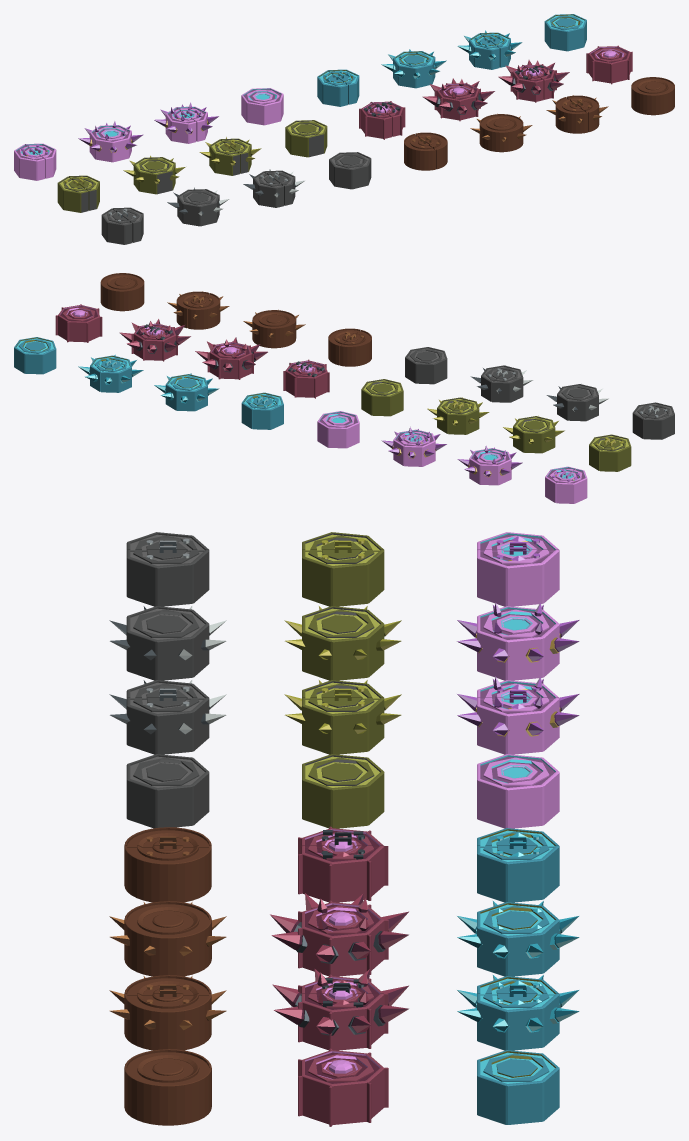
File: construcoes.fbx
The picture shows the model from 3 angles, top to bottom: view 1: azimuth 30°, elevation 25°; view 2: azimuth 150°, elevation 25°; view 3: azimuth 270°, elevation 25°; orthographic projection. The views are drawn at different scales.
Visible parts, largest first — view 1: reidite_spike_body, wood_spike_body, amethyst_spike_body, diamond_spike_body, gold_spike_body, wood_wall_body, stone_spike_body, reidite_wall_body, stone_wall_body, gold_wall_body, diamond_wall_body, amethyst_wall_body (+24 smaller); view 2: reidite_spike_body, wood_spike_body, amethyst_spike_body, diamond_spike_body, wood_wall_body, reidite_wall_body, gold_spike_body, stone_spike_body, amethyst_wall_body, diamond_wall_body, stone_wall_body, gold_wall_body (+24 smaller); view 3: reidite_spike_body, wood_spike_body, amethyst_spike_body, diamond_spike_body, wood_wall_body, gold_spike_body, stone_spike_body, reidite_wall_body, stone_wall_body, diamond_wall_body, amethyst_wall_body, gold_wall_body (+24 smaller).
Boxes of the visible parts, <box> form: reidite_spike_body: <box>422,78,494,121</box>; wood_spike_body: <box>470,113,532,152</box>; amethyst_spike_body: <box>78,121,143,162</box>; diamond_spike_body: <box>381,49,446,88</box>; gold_spike_body: <box>123,155,185,194</box>; wood_wall_body: <box>631,77,674,115</box>; stone_spike_body: <box>167,187,229,226</box>; reidite_wall_body: <box>586,45,632,84</box>; stone_wall_body: <box>329,152,371,189</box>; gold_wall_body: <box>285,120,327,157</box>; diamond_wall_body: <box>544,14,586,51</box>; amethyst_wall_body: <box>241,88,283,125</box>; reidite_spike_body: <box>195,337,267,379</box>; wood_spike_body: <box>243,309,305,348</box>; amethyst_spike_body: <box>457,445,522,485</box>; diamond_spike_body: <box>154,373,219,411</box>; wood_wall_body: <box>100,273,144,311</box>; reidite_wall_body: <box>55,304,102,342</box>; gold_spike_body: <box>503,415,564,453</box>; stone_spike_body: <box>546,384,608,421</box>; amethyst_wall_body: <box>317,411,359,448</box>; diamond_wall_body: <box>14,337,56,374</box>; stone_wall_body: <box>405,347,447,384</box>; gold_wall_body: <box>361,379,403,416</box>; reidite_spike_body: <box>270,893,408,976</box>; wood_spike_body: <box>109,901,226,976</box>; amethyst_spike_body: <box>457,602,579,680</box>; diamond_spike_body: <box>457,901,579,976</box>; wood_wall_body: <box>124,1049,211,1125</box>; gold_spike_body: <box>284,606,401,680</box>; stone_spike_body: <box>109,606,226,680</box>; reidite_wall_body: <box>298,1048,388,1126</box>; stone_wall_body: <box>126,754,209,828</box>; diamond_wall_body: <box>477,1050,559,1124</box>; amethyst_wall_body: <box>477,754,559,828</box>; gold_wall_body: <box>302,754,384,828</box>.
Size of the model in its own units: 60.06 by 2.6 by 21.52.
1 material, 1 textured.
